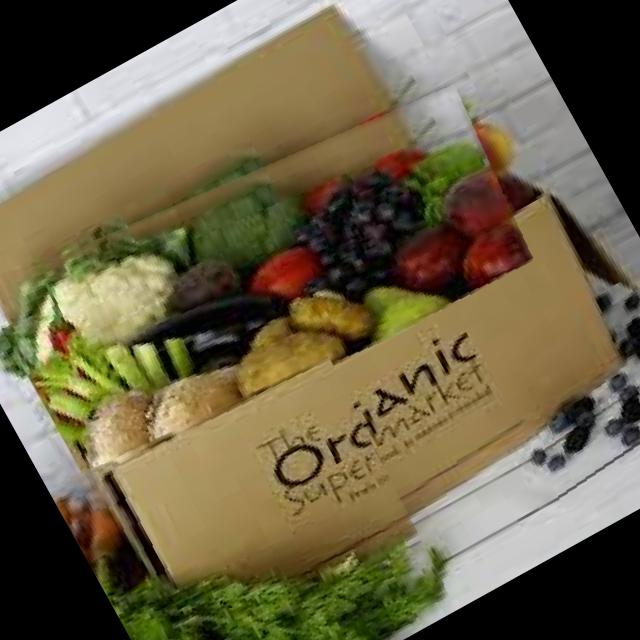Organic: (0, 40, 547, 501), (48, 340, 466, 640), (482, 263, 640, 520)
